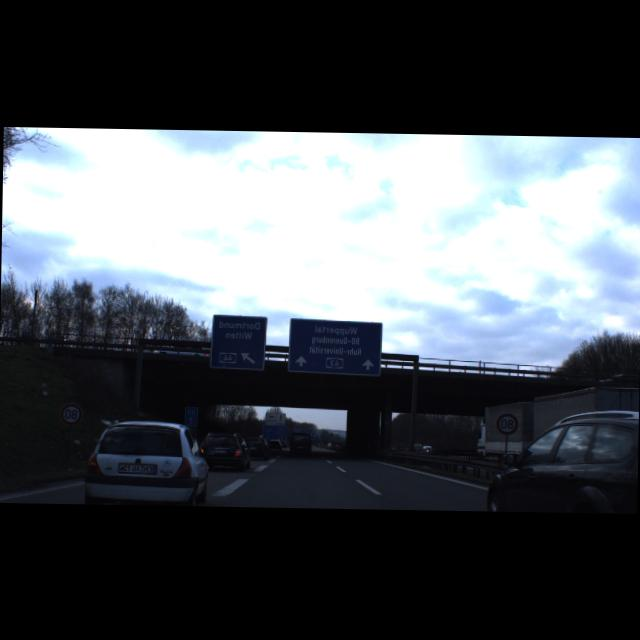prohibitory: (60, 402, 84, 426), (496, 412, 518, 435)
